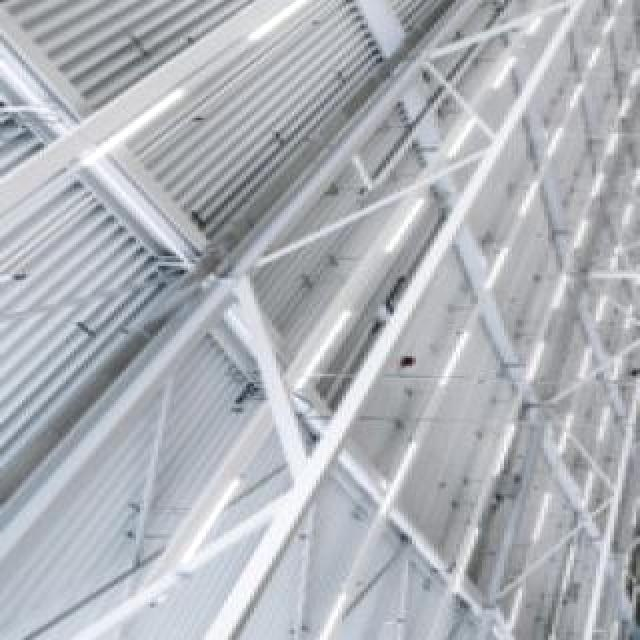fluorescent tube: (183, 460, 261, 585), (278, 302, 369, 400), (376, 431, 433, 533), (451, 511, 493, 633), (431, 302, 484, 398), (273, 582, 356, 640), (473, 220, 515, 316), (479, 420, 537, 489), (378, 189, 438, 255), (507, 169, 557, 231), (538, 394, 582, 462), (556, 71, 609, 124), (525, 480, 563, 551), (536, 111, 582, 169), (517, 325, 555, 393), (482, 43, 531, 93), (440, 113, 485, 162), (578, 291, 631, 331), (496, 582, 531, 636), (562, 344, 602, 391), (565, 207, 602, 257), (612, 190, 640, 244), (596, 243, 624, 285), (611, 85, 638, 120), (544, 0, 574, 14)
